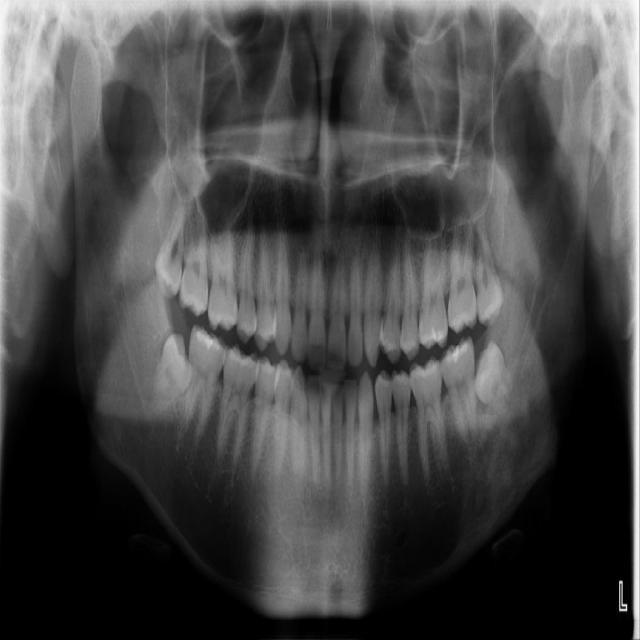3M ESPE Implant: (154, 184, 186, 296)
73: (622, 619, 630, 630)
BioHorizons Implant: (447, 210, 484, 331)
BioLife Implant: (468, 207, 505, 327)
Biomet 3i Implant: (470, 338, 518, 416)
Blue Sky Bio Implant: (439, 338, 482, 447)
Caries: (180, 190, 211, 316)
Implant: (174, 326, 231, 440)
Keystone Dental Implant: (145, 332, 203, 418)
